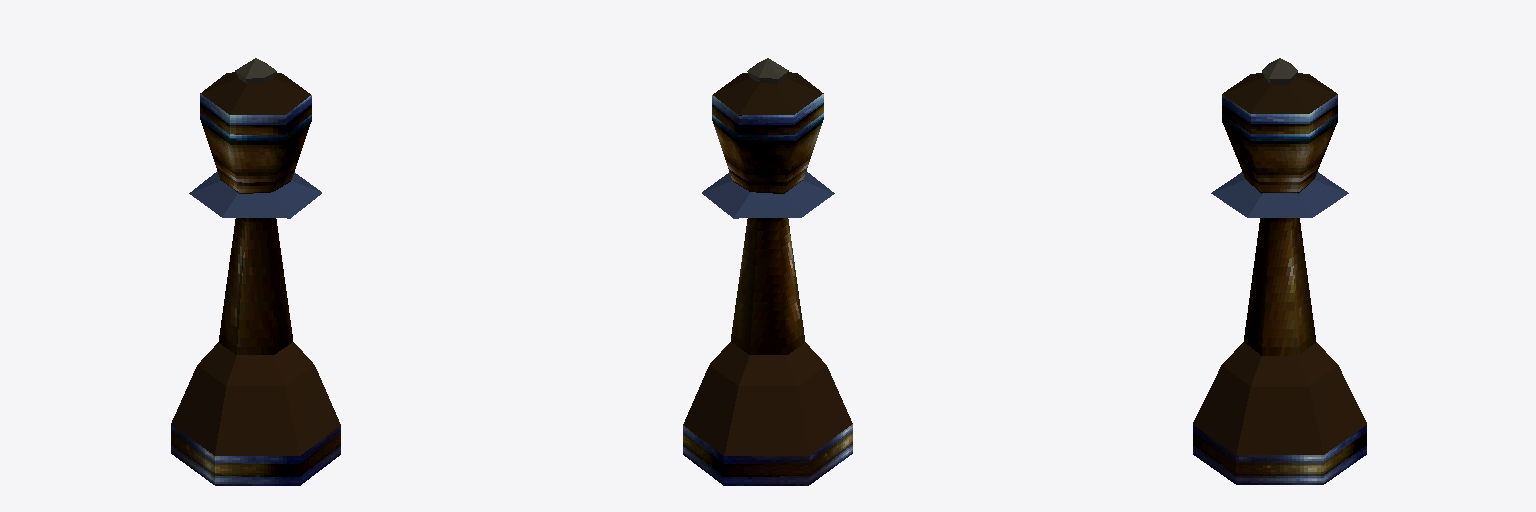
The picture shows the model from 3 angles: view 1: azimuth 30°, elevation 25°; view 2: azimuth 150°, elevation 25°; view 3: azimuth 270°, elevation 25°; orthographic projection.
Parts seen in each view (by area): view 1: Mesh3 Group4 Group1 Model, Mesh2 Group3 Group1 Model, Mesh4 Group5 Group1 Model, Mesh1 Group2 Group1 Model; view 2: Mesh3 Group4 Group1 Model, Mesh2 Group3 Group1 Model, Mesh4 Group5 Group1 Model, Mesh1 Group2 Group1 Model; view 3: Mesh3 Group4 Group1 Model, Mesh2 Group3 Group1 Model, Mesh4 Group5 Group1 Model, Mesh1 Group2 Group1 Model.
Boxes of the visible parts, x1,y1,x2,y2 form: Mesh3 Group4 Group1 Model: [171, 218, 340, 485]; Mesh2 Group3 Group1 Model: [200, 72, 311, 193]; Mesh4 Group5 Group1 Model: [189, 171, 321, 218]; Mesh1 Group2 Group1 Model: [235, 58, 276, 84]; Mesh3 Group4 Group1 Model: [683, 218, 852, 485]; Mesh2 Group3 Group1 Model: [712, 72, 823, 193]; Mesh4 Group5 Group1 Model: [702, 171, 834, 218]; Mesh1 Group2 Group1 Model: [747, 58, 788, 84]; Mesh3 Group4 Group1 Model: [1193, 218, 1366, 484]; Mesh2 Group3 Group1 Model: [1222, 73, 1337, 193]; Mesh4 Group5 Group1 Model: [1211, 172, 1348, 217]; Mesh1 Group2 Group1 Model: [1262, 58, 1297, 84].
Bounding box in the file's own units: 1.89 × 5.67 × 2.27.
9 materials, 4 textured.